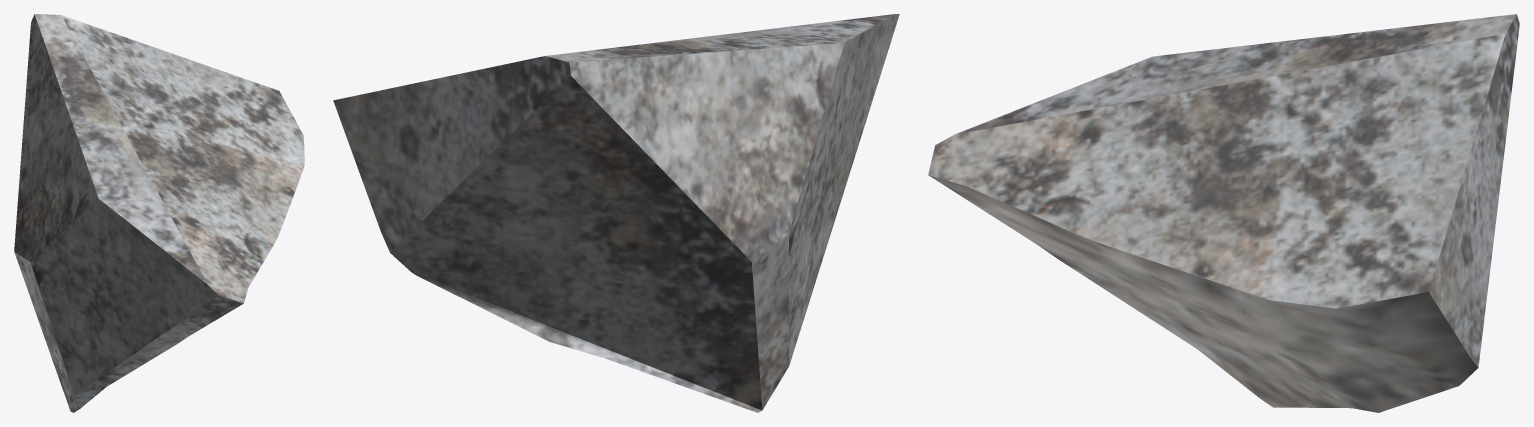
The model's file is Asteroid_Large_001_02_001_03_019.fbx.
3 views of the same model, side by side, from view 1: azimuth 30°, elevation 25°; view 2: azimuth 150°, elevation 25°; view 3: azimuth 270°, elevation 25° (orthographic). The views are drawn at different scales.
Parts seen in each view (by area): view 1: Asteroid_Large_001_02_001_03_019; view 2: Asteroid_Large_001_02_001_03_019; view 3: Asteroid_Large_001_02_001_03_019.
Part boxes in pixels (x1,y1,x2,y2): Asteroid_Large_001_02_001_03_019: (14,14,304,412); Asteroid_Large_001_02_001_03_019: (333,14,899,412); Asteroid_Large_001_02_001_03_019: (928,14,1519,412).
Bounding box in the file's own units: 6.17 × 6.34 × 7.96.
